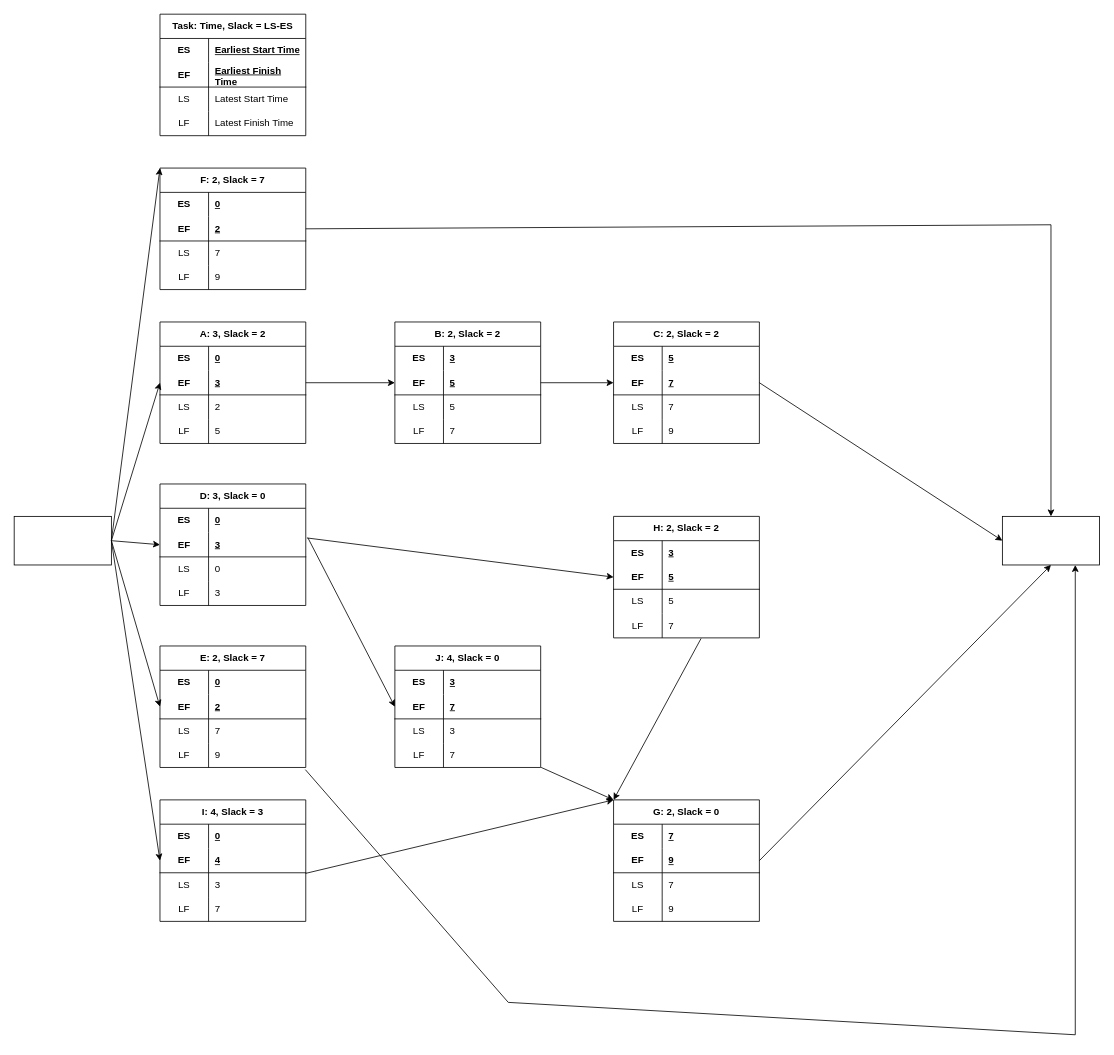
Image size: 1114x1055. Some labels were removed from this diagram. Here are the shapes that lost their labels. From the top down, the centre of each, then its label:
the point at 62,540: Start
the point at 1051,540: Finish (9)
